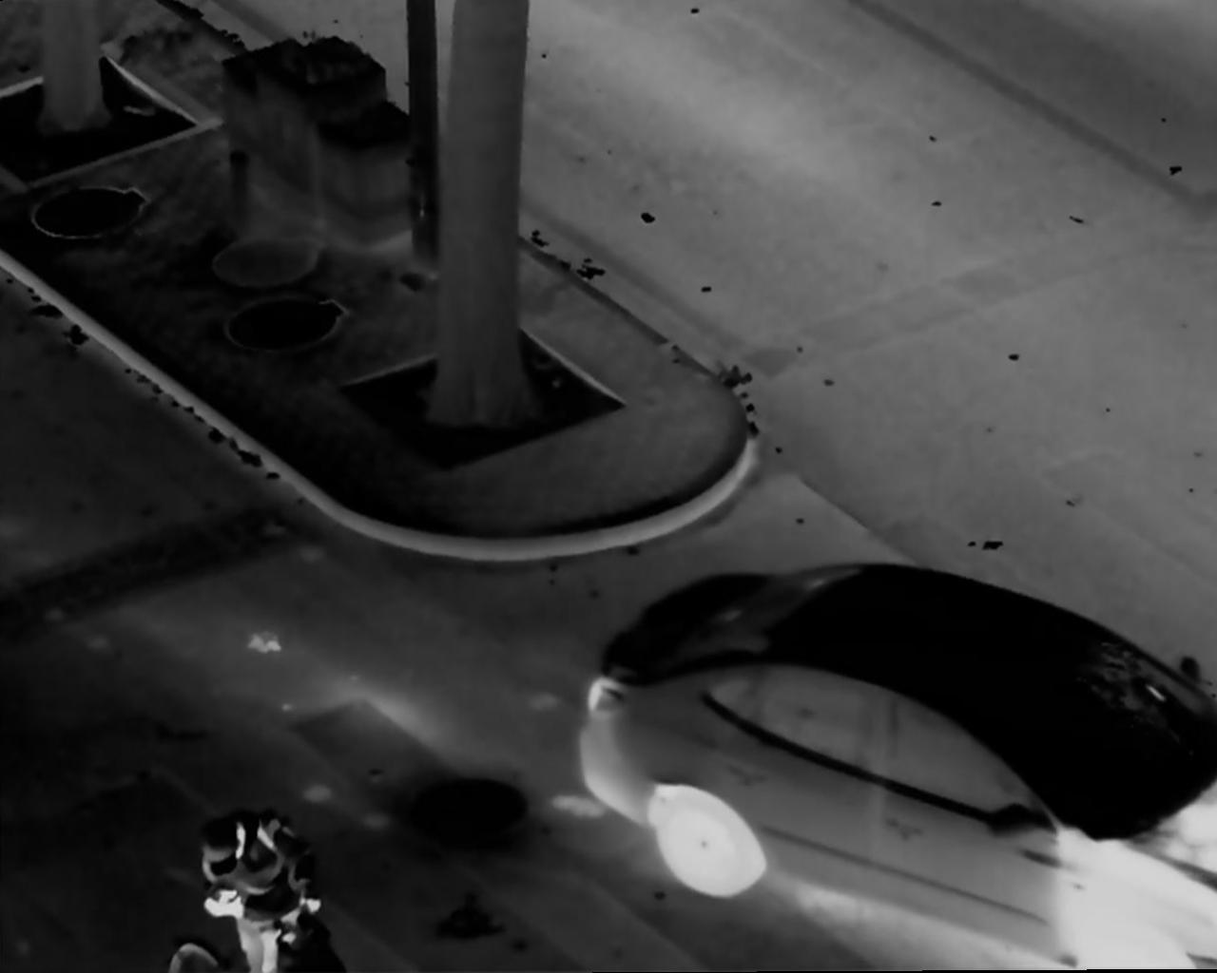person: (194, 816, 323, 973)
